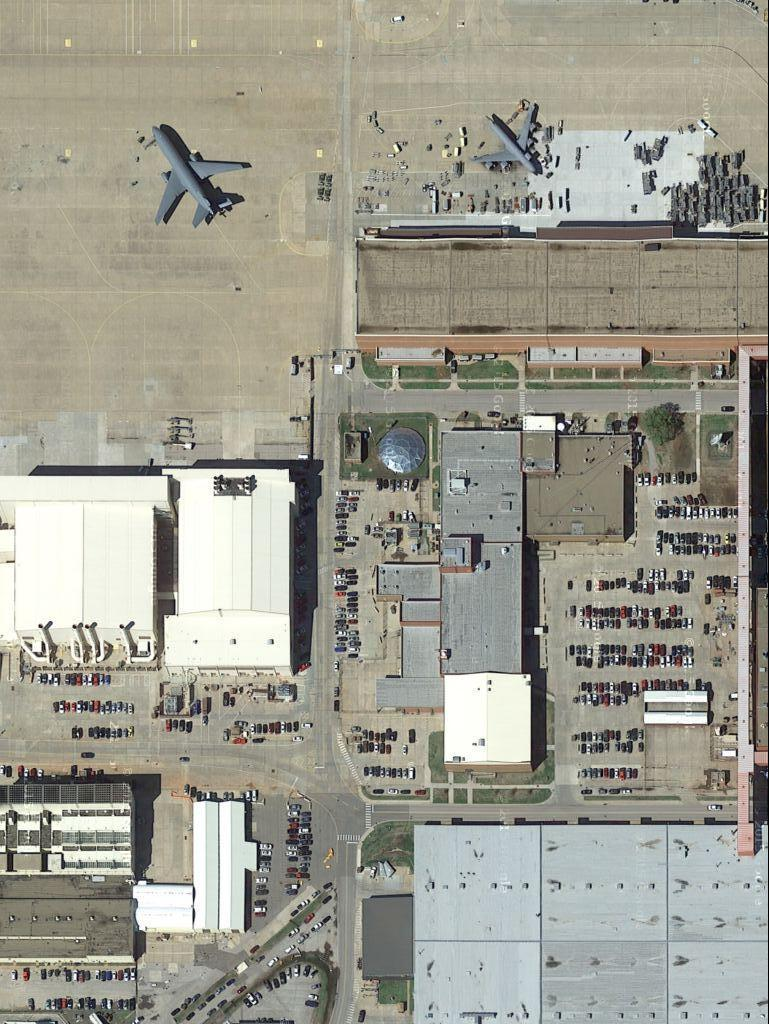KC-10: (145, 122, 250, 232)
KC-135: (469, 97, 545, 178)
